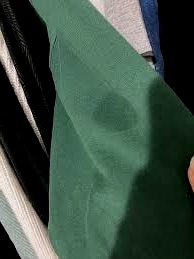oil: (91, 94, 140, 134)
